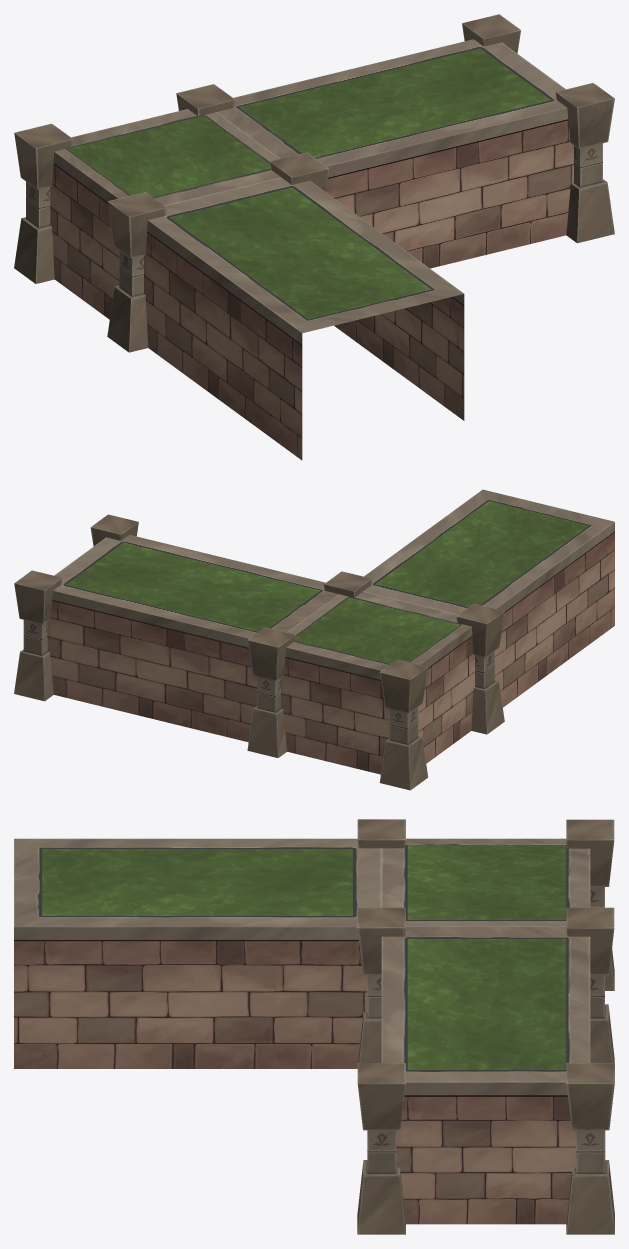
File: wall_corner_modular1.fbx
3 views of the same model, one above another, from view 1: azimuth 30°, elevation 25°; view 2: azimuth 150°, elevation 25°; view 3: azimuth 270°, elevation 25° (orthographic). The views are drawn at different scales.
Visible parts, largest first — view 1: polySurface2488; view 2: polySurface2488; view 3: polySurface2488.
Part boxes in pixels (x1,y1,x2,y2): polySurface2488: [14, 14, 614, 460]; polySurface2488: [14, 489, 614, 790]; polySurface2488: [14, 819, 614, 1234].
Size of the model in its own units: 11.53 by 3.07 by 11.08.
